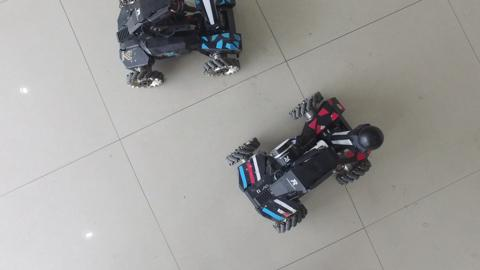chariot: (218, 88, 397, 238), (111, 1, 245, 94)
